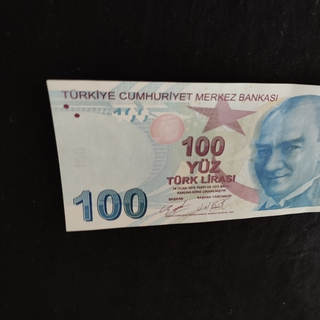100TLFront: (45, 77, 320, 232)
